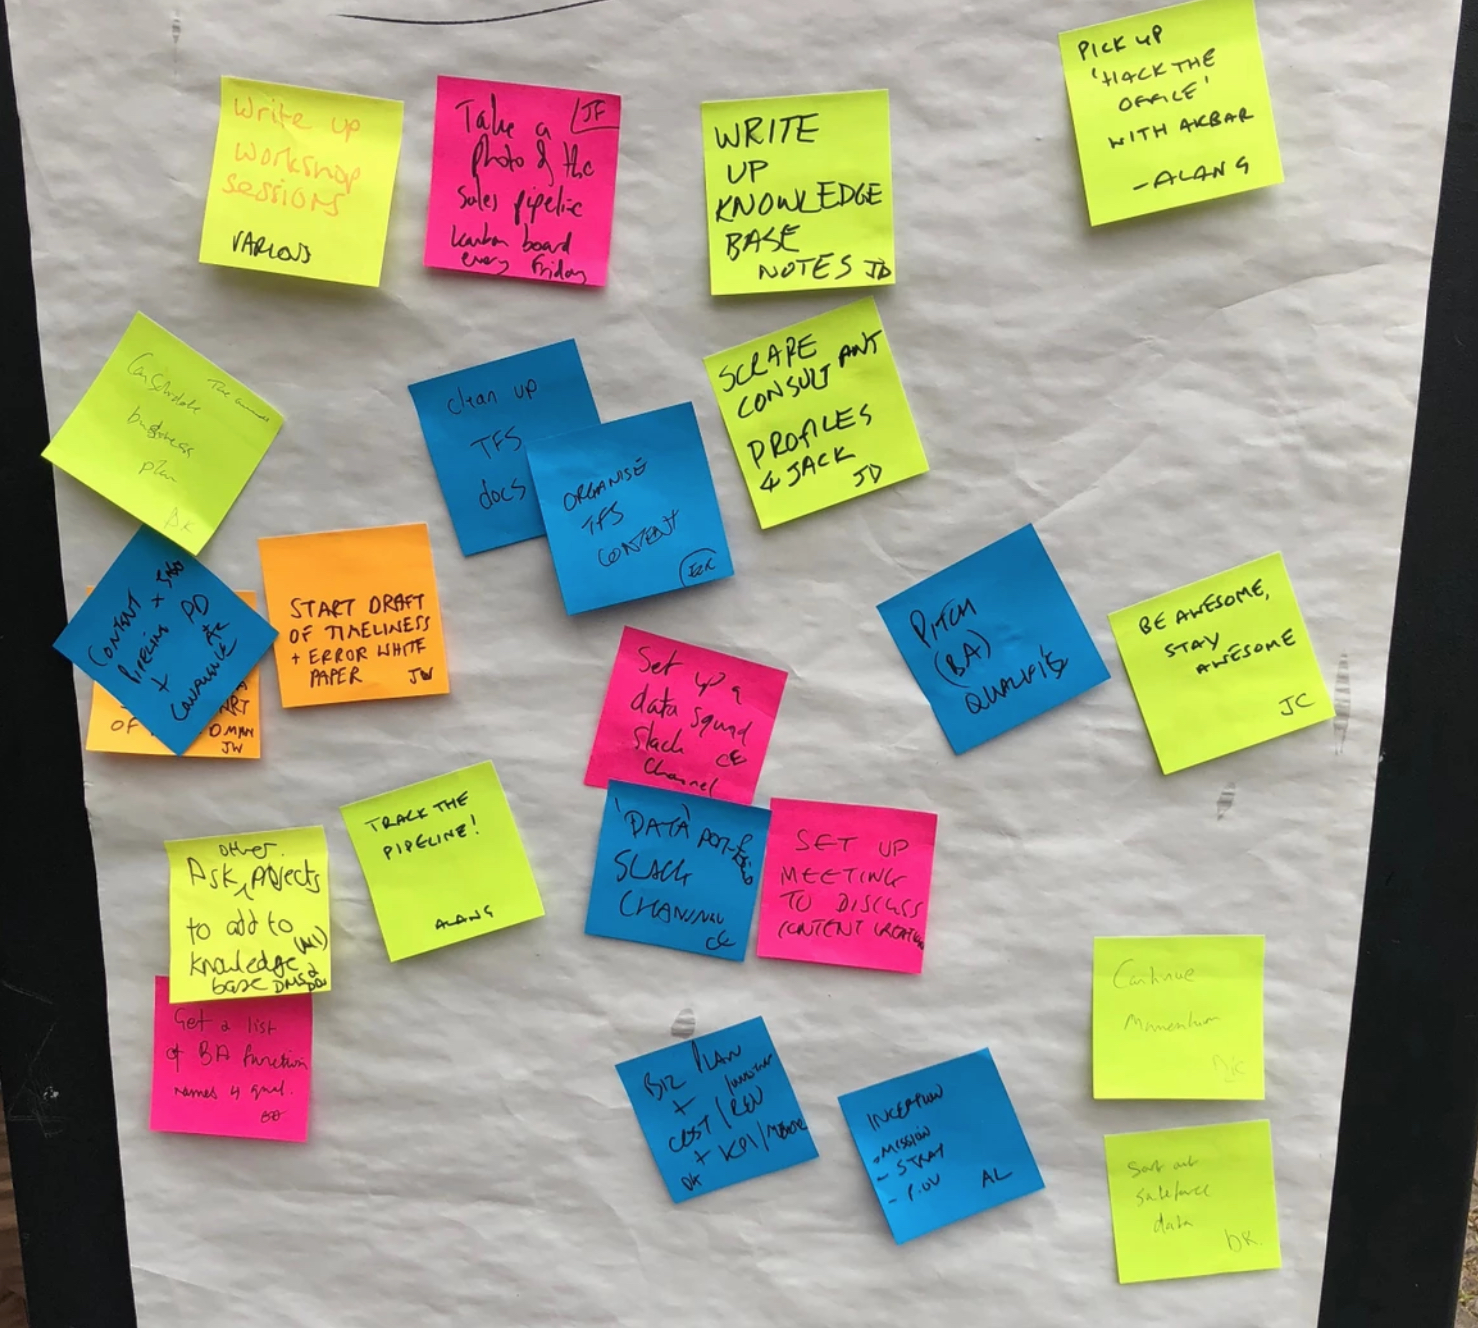stickynote: (868, 506, 1132, 767), (702, 290, 966, 530), (1106, 544, 1351, 801), (35, 298, 277, 550), (48, 518, 282, 752), (1054, 1, 1276, 241), (511, 394, 739, 624), (400, 329, 625, 560), (189, 57, 406, 295), (680, 69, 905, 295), (414, 58, 628, 295), (339, 744, 554, 960), (605, 989, 825, 1201), (829, 1041, 1049, 1249), (252, 510, 469, 714), (589, 620, 786, 821), (575, 775, 779, 961), (1085, 914, 1275, 1106), (86, 583, 282, 770), (1094, 1107, 1288, 1295), (159, 817, 345, 1007), (757, 794, 943, 983), (143, 960, 325, 1143)
